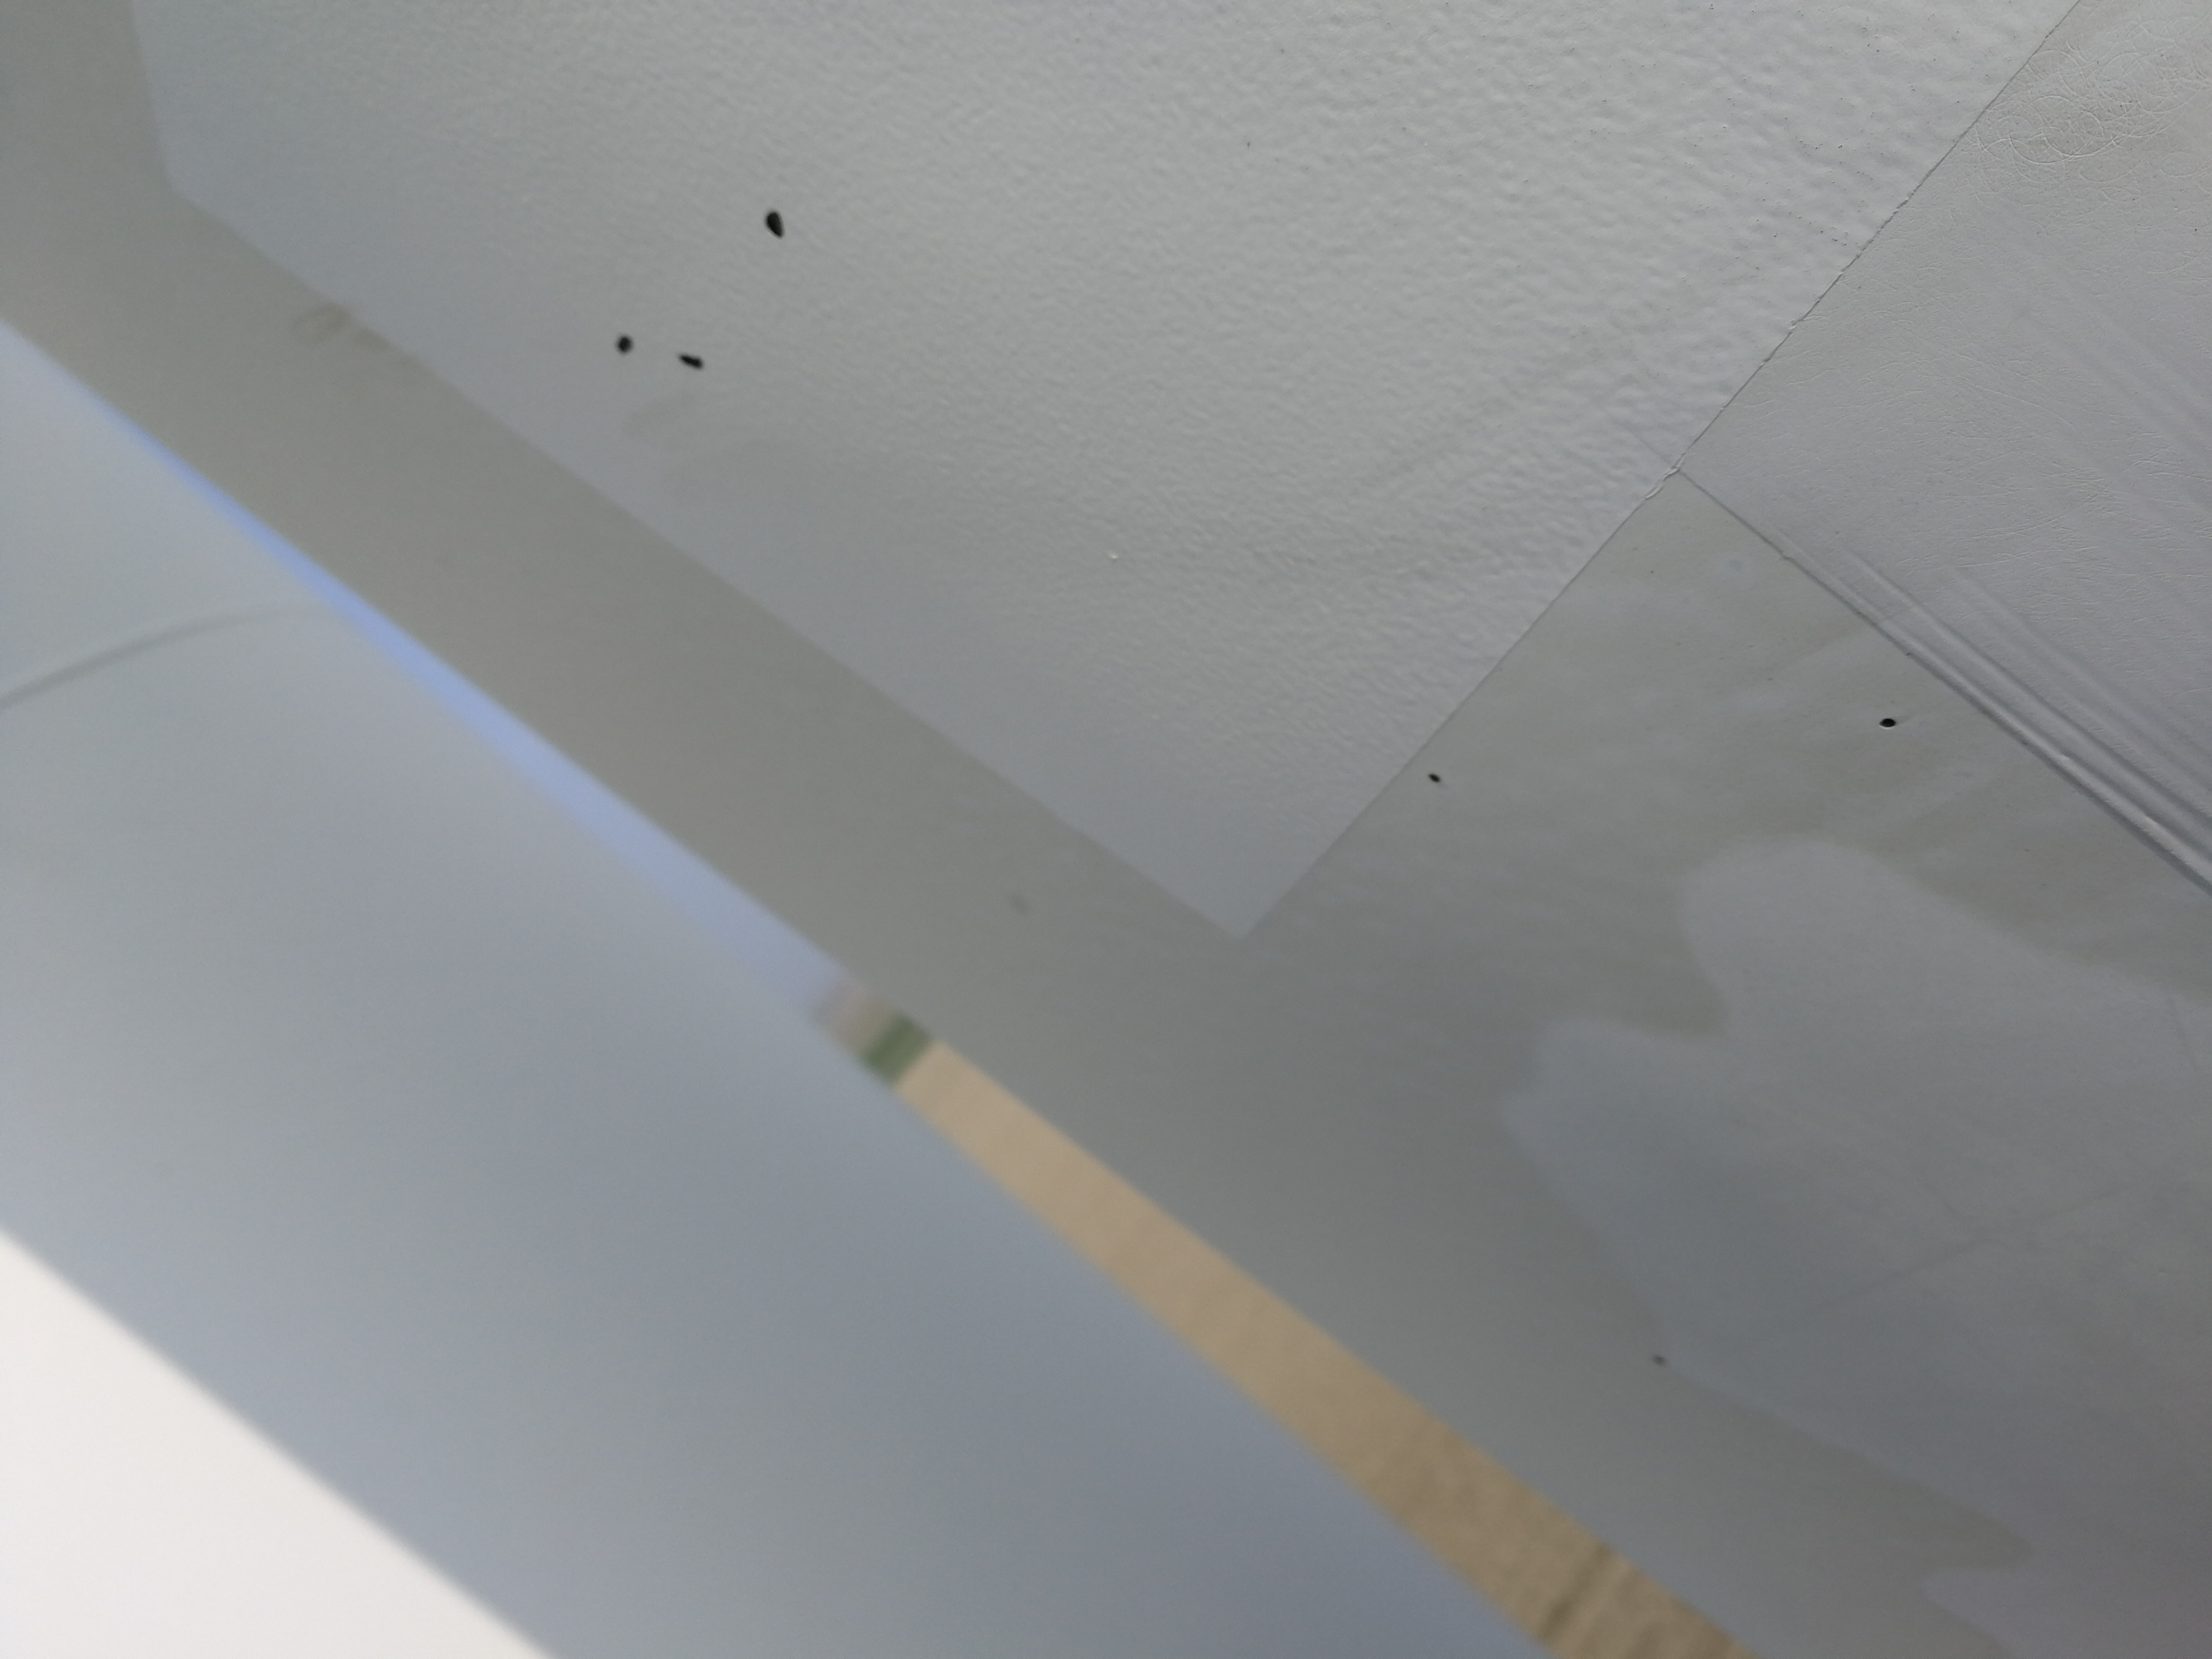SD: (587, 328, 714, 380), (1425, 758, 1454, 812), (1874, 711, 1907, 742), (754, 209, 798, 230)
